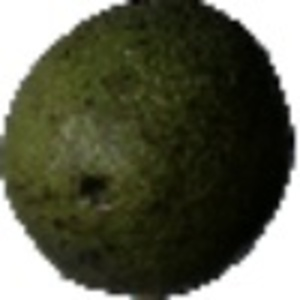abacate: (1, 1, 296, 295)
